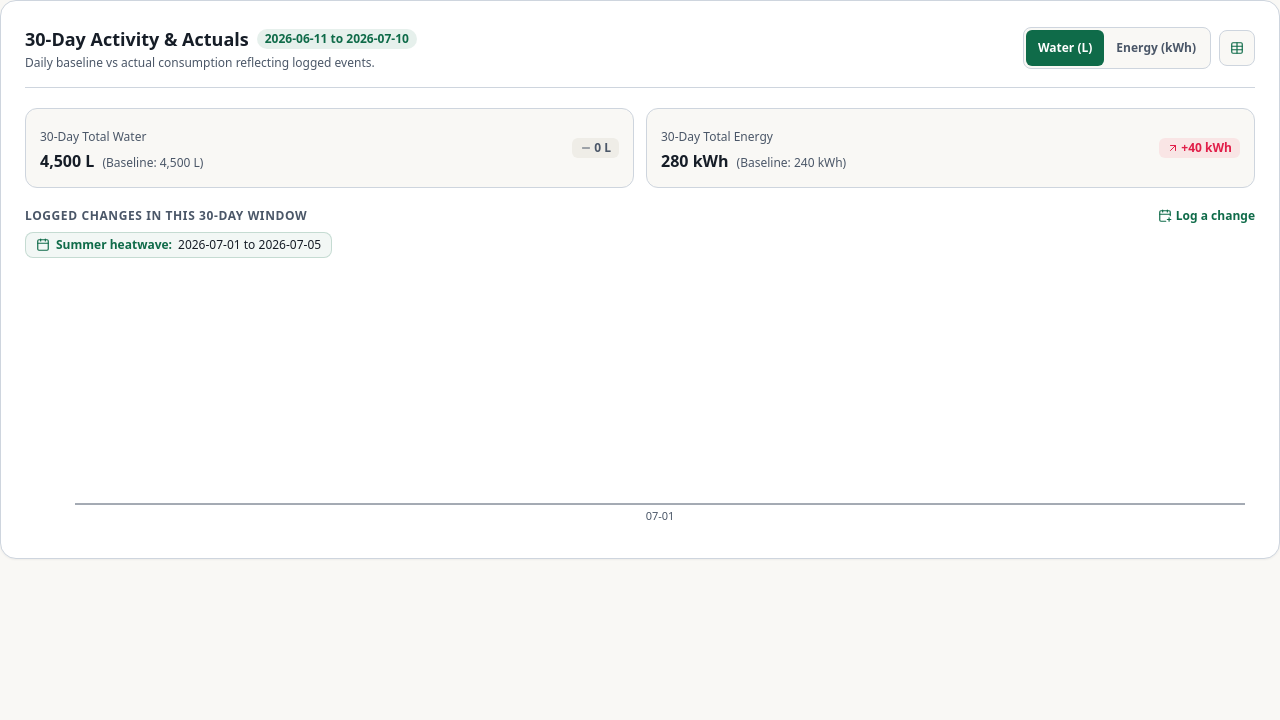
Test case: ThirtyDayChart Component › toggles between chart view and table view on button click
Click the button named "switch to accessible 30-day table view" at [1237, 48], box [1219, 30, 1255, 66]
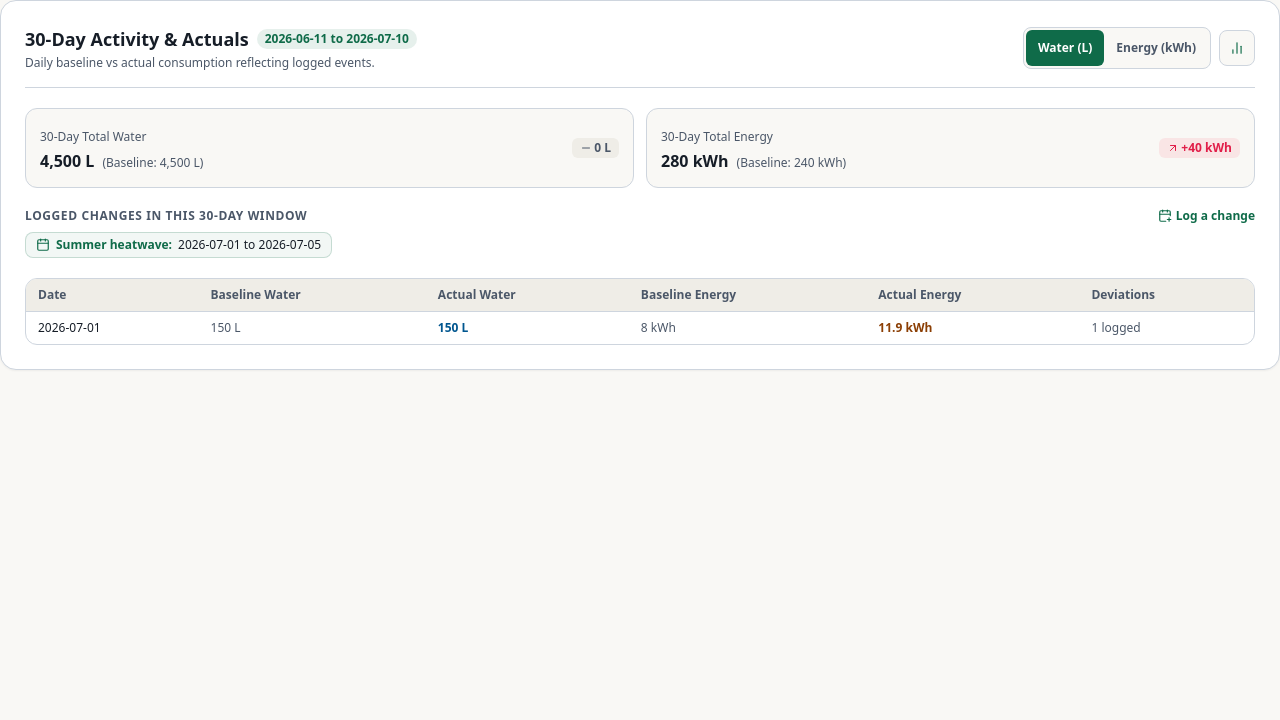
Result: the table is shown at [26, 279, 1254, 344]
Result: the cell "2026-07-01" is shown at [26, 312, 198, 344]
